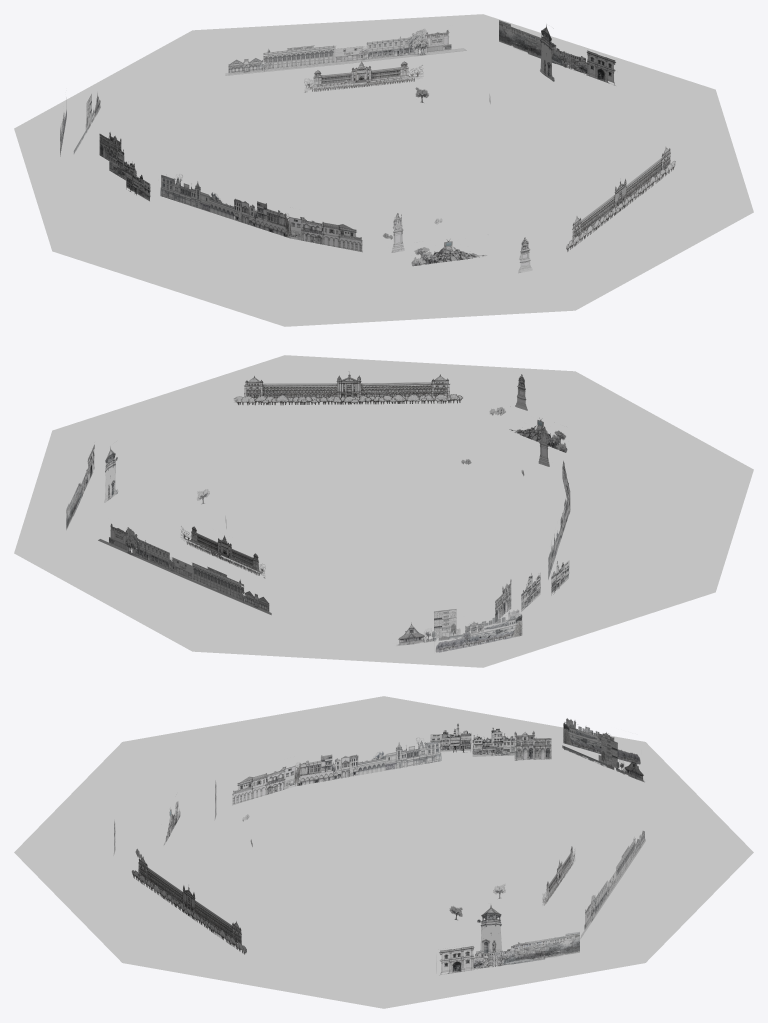
3 renders of one model, top to bottom at view 1: azimuth 30°, elevation 25°; view 2: azimuth 150°, elevation 25°; view 3: azimuth 270°, elevation 25°, orthographic. The views are drawn at different scales.
Parts seen in each view (by area): view 1: floor, S2, S7, S4, S3.2, S1, S6, S8.1, S5, S3.1; view 2: floor, S4, S2, S9, S1, S8.1, S10, S3.2, S5; view 3: floor, S7, S3.2, S8.1, S4, S6, S9, S2, S10, S3.1, S1.
Boxes of the visible parts, x1,y1,x2,y2 form: floor: (14,14,753,326); S2: (225,28,466,75); S7: (160,175,290,238); S4: (566,147,675,251); S3.2: (499,20,615,85); S1: (304,61,422,92); S6: (289,217,362,252); S8.1: (99,132,150,201); S5: (411,240,486,266); S3.1: (540,24,554,81); floor: (14,355,753,667); S4: (233,373,462,405); S2: (98,523,271,614); S9: (435,609,522,652); S1: (181,526,265,578); S8.1: (495,561,569,622); S10: (397,609,462,645); S3.2: (66,444,94,529); S5: (509,406,567,452); floor: (14,696,753,1008); S7: (294,738,441,786); S3.2: (439,932,579,975); S8.1: (430,723,551,760); S4: (132,856,246,954); S6: (232,765,295,805); S9: (563,718,640,764); S2: (580,831,645,938); S10: (562,736,644,782); S3.1: (476,905,501,953); S1: (542,846,574,905).
Size of the model in its own units: 18.97 by 1.88 by 18.97.
16 materials, 15 textured.
